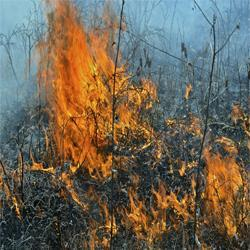fire: (53, 37, 109, 151), (207, 161, 233, 201)
